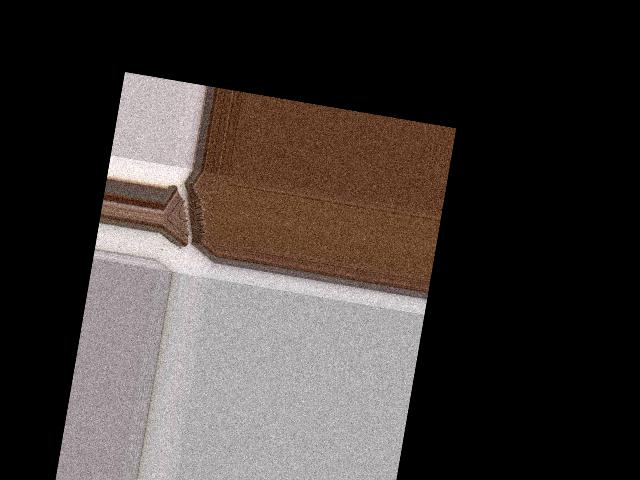chocolate: (155, 166, 227, 263)
